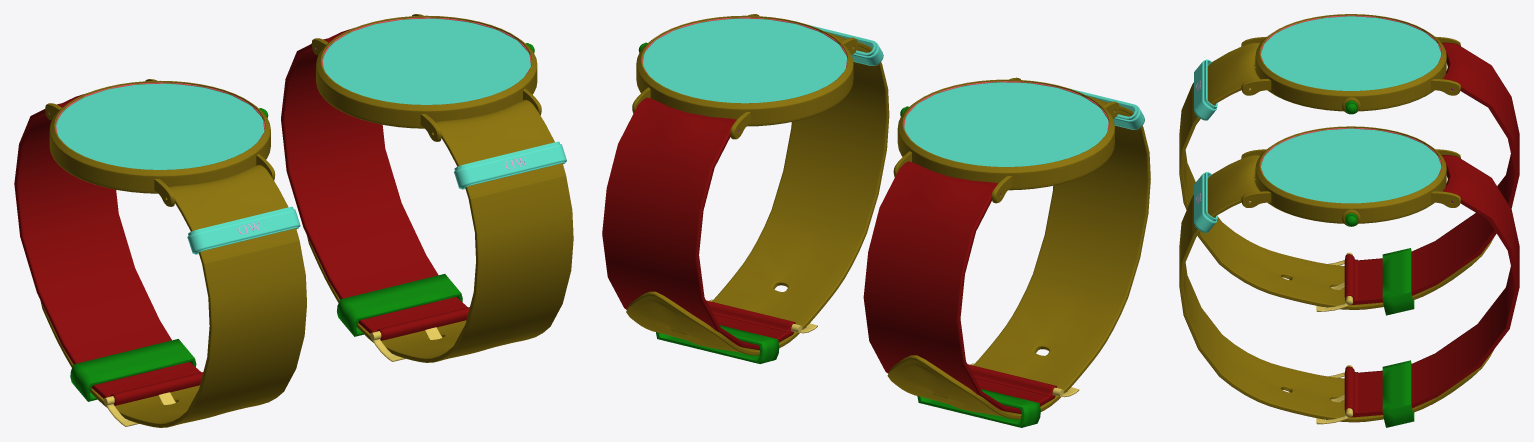
Rendered from watch.obj.
3 views of the same model, side by side, from view 1: azimuth 30°, elevation 25°; view 2: azimuth 150°, elevation 25°; view 3: azimuth 270°, elevation 25° (orthographic). The views are drawn at different scales.
Visible parts, largest first — view 1: strap003, strap1, strap004, strap2, Watches_glass001, Watches_glass, Watche_body001, Watche_body, strap_ring001, strap_ring, metal_ring001, metal_ring (+1 smaller); view 2: strap003, strap1, strap2, strap004, Watches_glass, Watches_glass001, Watche_body001, Watche_body, strap_ring001, strap_ring, metal_ring, metal_ring001; view 3: strap1, Watches_glass, Watches_glass001, strap2, strap003, strap004, Watche_body001, Watche_body, strap_ring, strap_ring001, metal_ring001, metal_ring (+4 smaller).
Boxes of the visible parts, x1,y1,x2,y2 form: strap003: (40, 165, 306, 427); strap1: (307, 100, 573, 362); strap004: (14, 93, 203, 405); strap2: (281, 28, 469, 340); Watches_glass001: (56, 83, 264, 169); Watches_glass: (322, 18, 530, 104); Watche_body001: (45, 79, 275, 206); Watche_body: (311, 14, 541, 141); strap_ring001: (70, 339, 196, 401); strap_ring: (337, 274, 462, 336); metal_ring001: (187, 206, 300, 254); metal_ring: (454, 141, 566, 189); strap003: (887, 95, 1150, 419); strap1: (626, 32, 889, 355); strap2: (602, 97, 795, 350); strap004: (863, 161, 1056, 413); Watches_glass: (643, 18, 846, 103); Watches_glass001: (904, 82, 1108, 166); Watche_body001: (893, 77, 1119, 203); Watche_body: (632, 14, 857, 139); strap_ring001: (917, 389, 1040, 427); strap_ring: (656, 325, 779, 363); metal_ring: (809, 25, 883, 65); metal_ring001: (1071, 89, 1144, 129); strap1: (1179, 155, 1493, 422); Watches_glass: (1260, 128, 1441, 203); Watches_glass001: (1260, 16, 1441, 90); strap2: (1344, 155, 1519, 417); strap003: (1179, 43, 1493, 309); strap004: (1344, 42, 1519, 305); Watche_body001: (1241, 14, 1460, 114); Watche_body: (1241, 126, 1460, 226); strap_ring: (1382, 360, 1414, 427); strap_ring001: (1382, 248, 1414, 315); metal_ring001: (1194, 59, 1217, 120); metal_ring: (1194, 172, 1217, 233).
Size of the model in its own units: 88.63 by 50.25 by 64.41.
